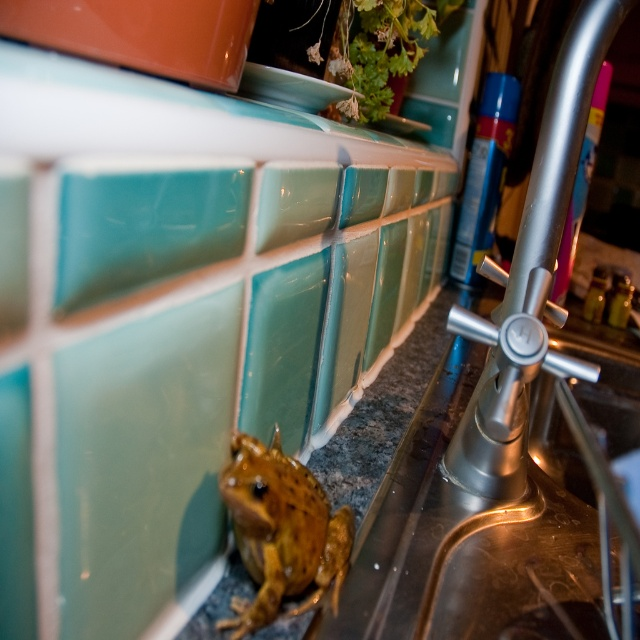Frog: (214, 421, 358, 640)
